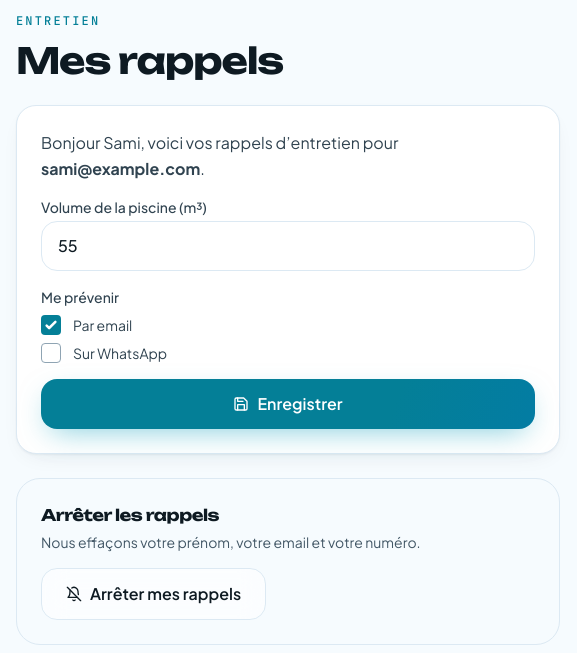
Scenario: my reminders page › stops the reminders after a confirmation
Click the button "Arrêter mes rappels": [154, 594] box x1=41 y1=568 x2=266 y2=620
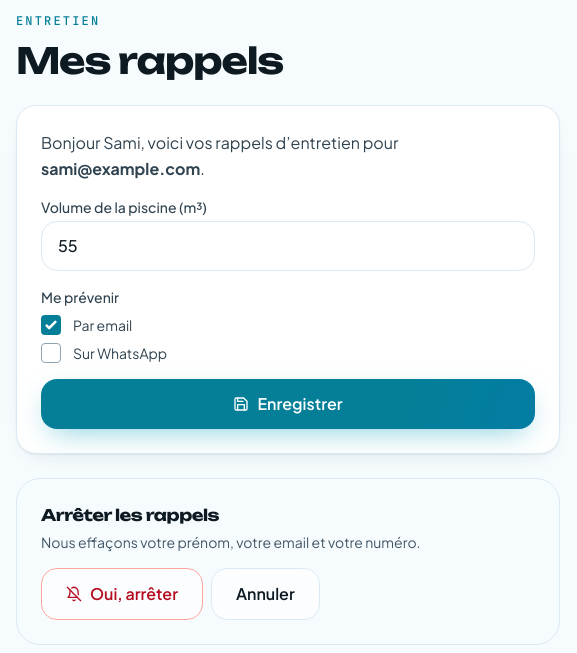
Click the button "Oui, arrêter": [122, 594] box x1=41 y1=568 x2=203 y2=620
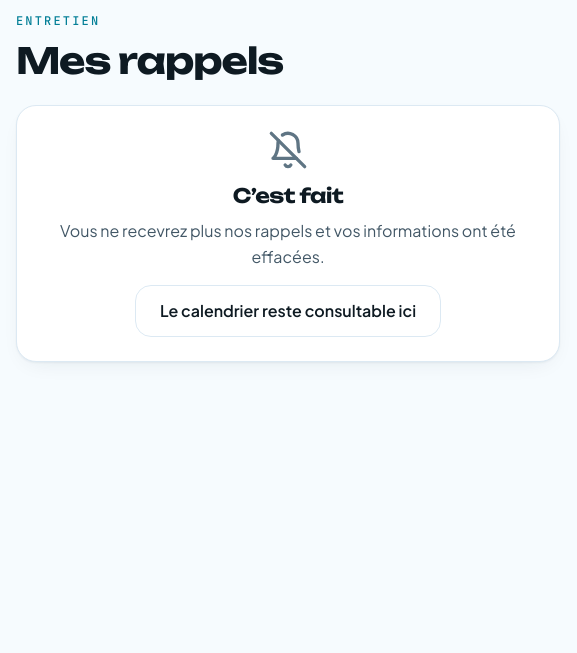
Result: the heading "C’est fait" is shown at x1=233 y1=183 x2=343 y2=208
